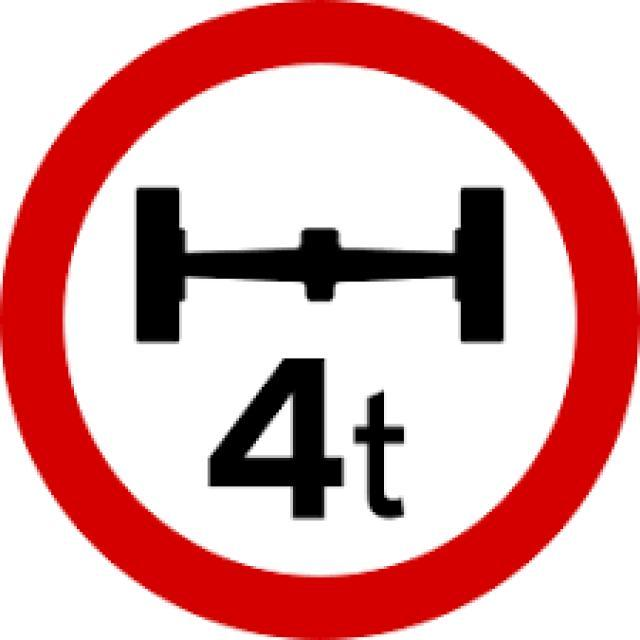axle load limit: (14, 14, 632, 626)
